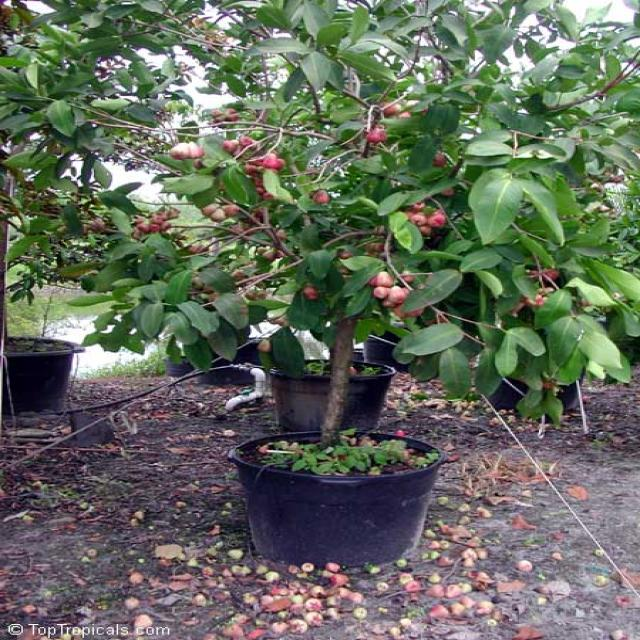Medicinal-Rose Apple: (11, 0, 640, 444)
